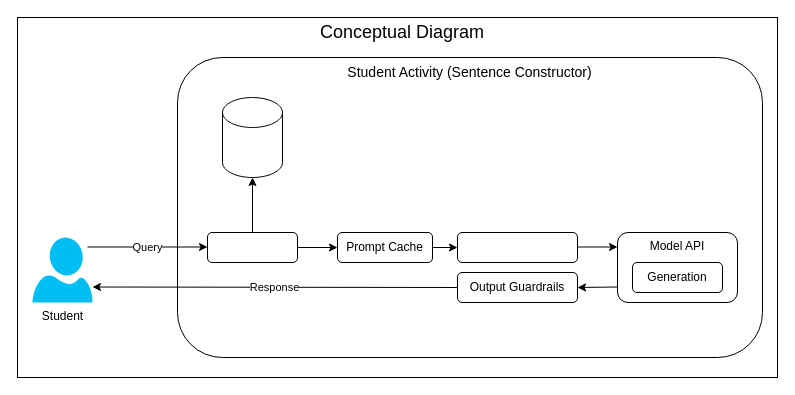
The diagram is 795 pixels wide and 395 high, and some of its shapes have lost their labels. Here are the shapes that lost their labels. From the top down, the box of each, then its label:
(222, 96, 282, 178): DB
(206, 232, 298, 262): RAG
(456, 232, 578, 262): Input Guardrails
